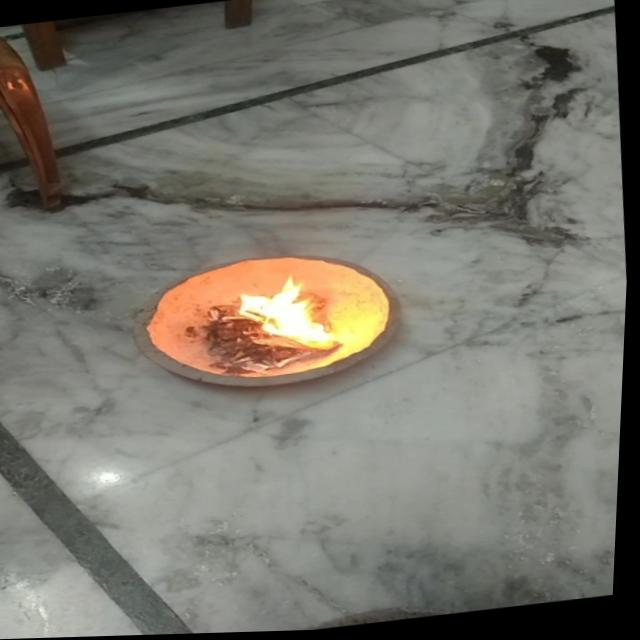fire: (233, 271, 345, 361)
